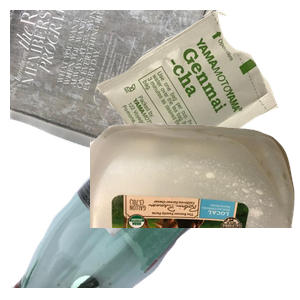glass: (10, 120, 224, 300)
paper: (10, 10, 222, 176)
plastic: (90, 120, 300, 300)
trash: (91, 10, 300, 186)
